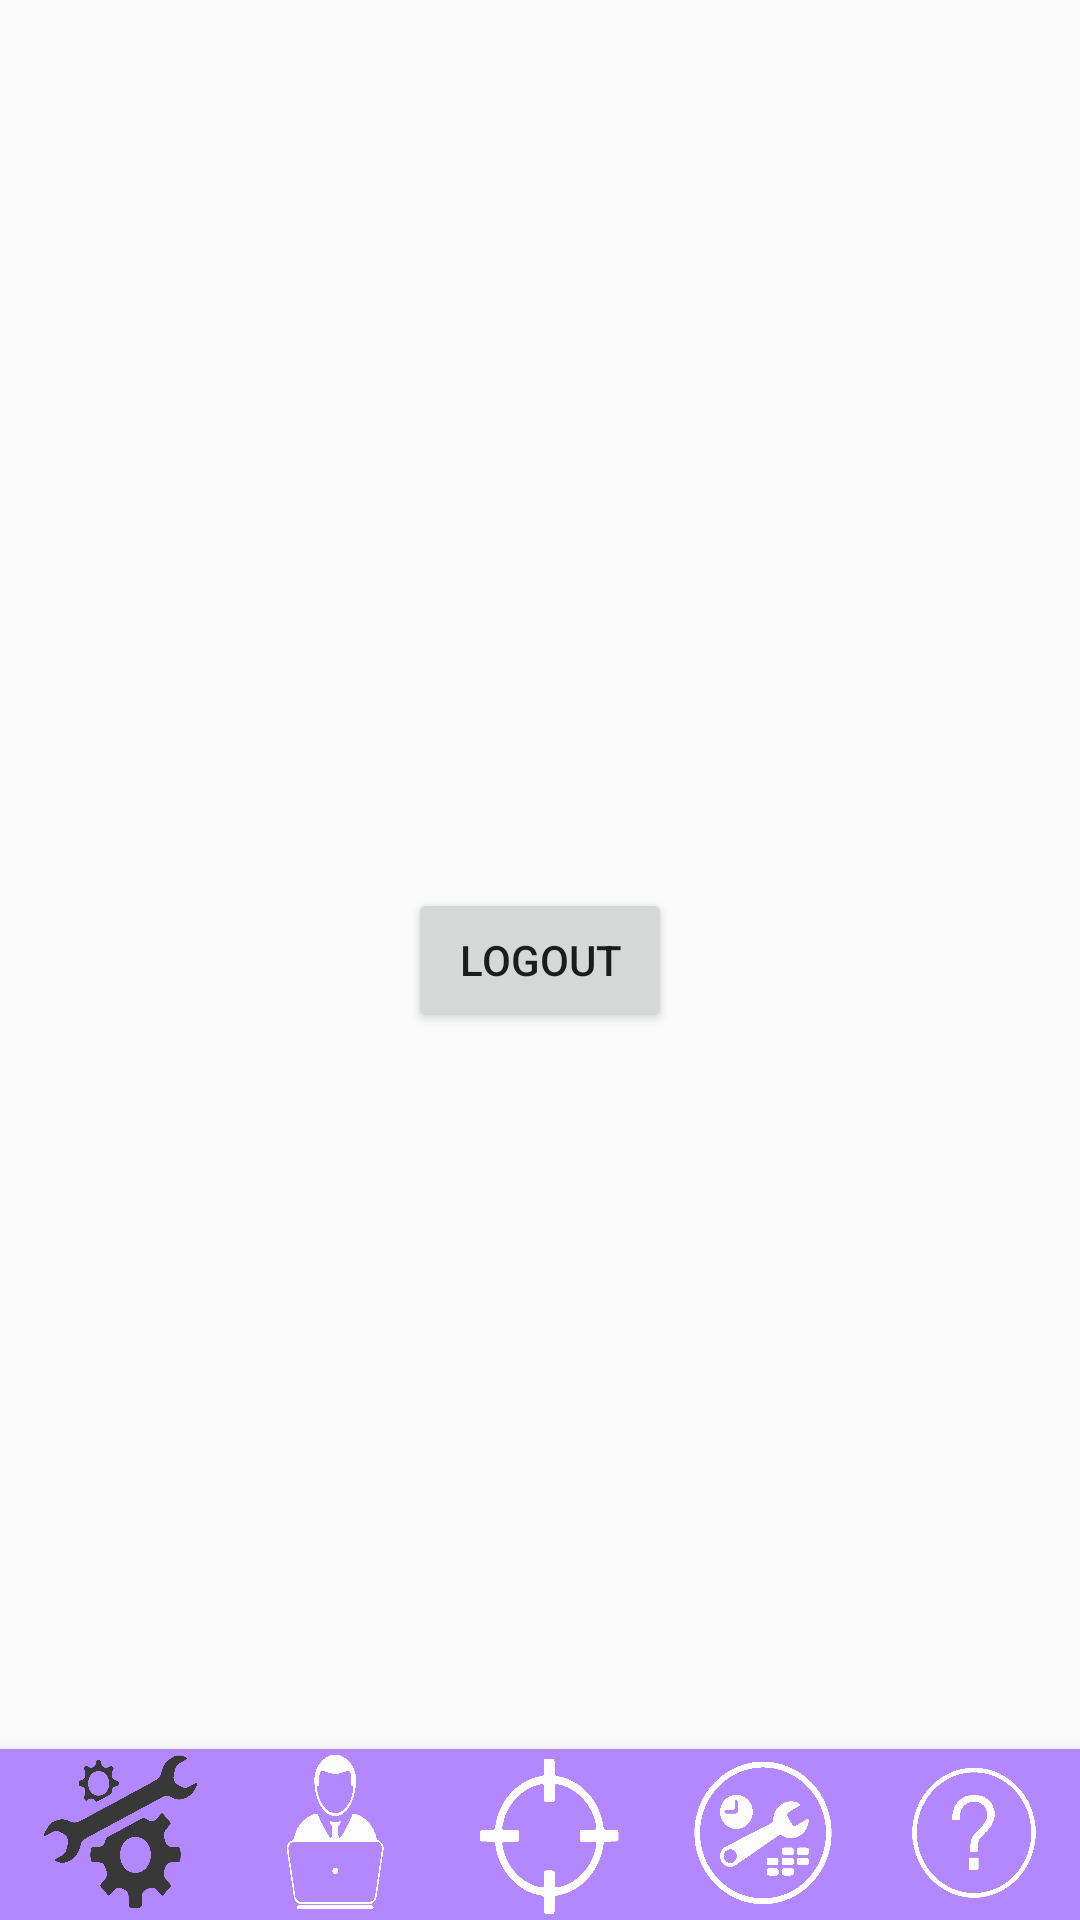

Named icons in this screenshot (1080px x 1920px) and their centers, [x,y]:
settings: [120,1831]
